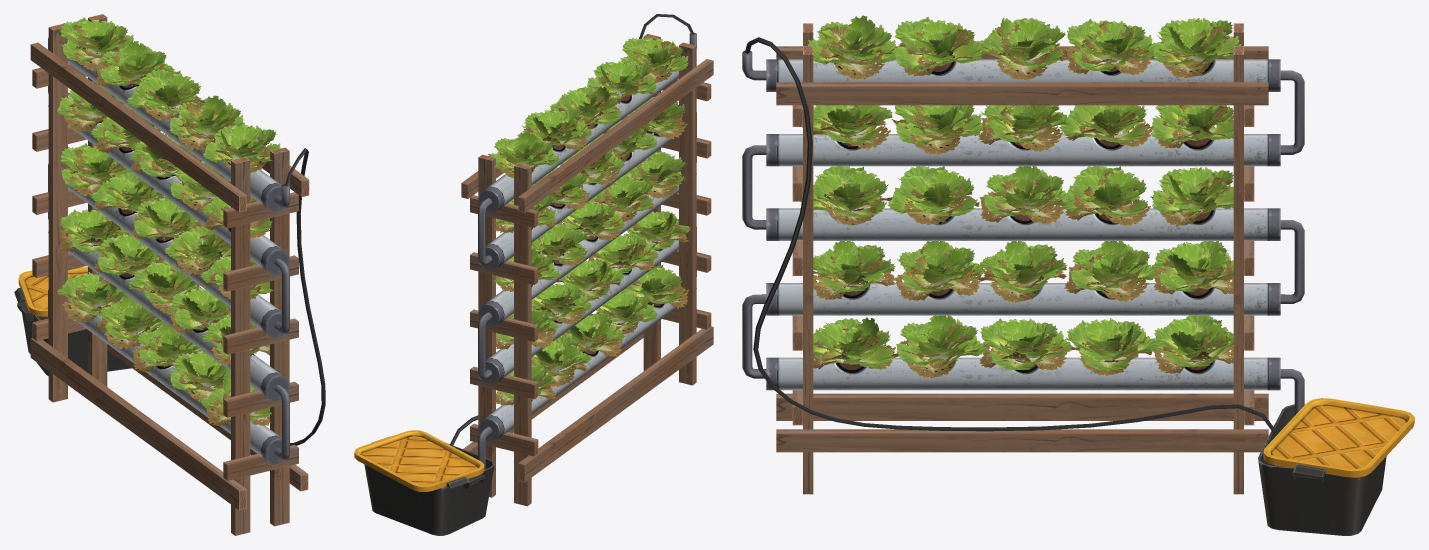
Rendered from hydroponics_V01_lettuce .fbx.
3 views of the same model, side by side, from view 1: azimuth 30°, elevation 25°; view 2: azimuth 150°, elevation 25°; view 3: azimuth 270°, elevation 25° (orthographic). The views are drawn at different scales.
Parts seen in each view (by area): view 1: hydroponics_V01_lettuce, hydroponics_V01_lettuce _S3, hydroponics_V01_lettuce _S4, hydroponics_V01_lettuce _S2, hydroponics_V01_lettuce _S1; view 2: hydroponics_V01_lettuce, hydroponics_V01_lettuce _S3, hydroponics_V01_lettuce _S4, hydroponics_V01_lettuce _S2, hydroponics_V01_lettuce _S1; view 3: hydroponics_V01_lettuce, hydroponics_V01_lettuce _S3, hydroponics_V01_lettuce _S4, hydroponics_V01_lettuce _S2, hydroponics_V01_lettuce _S1.
Part boxes in pixels (left/top/right/bottom): hydroponics_V01_lettuce: left=14, top=14, right=325, bottom=535; hydroponics_V01_lettuce _S3: left=57, top=17, right=280, bottom=417; hydroponics_V01_lettuce _S4: left=58, top=25, right=271, bottom=426; hydroponics_V01_lettuce _S2: left=66, top=34, right=264, bottom=400; hydroponics_V01_lettuce _S1: left=81, top=29, right=253, bottom=378; hydroponics_V01_lettuce: left=354, top=14, right=713, bottom=535; hydroponics_V01_lettuce _S3: left=489, top=35, right=690, bottom=399; hydroponics_V01_lettuce _S4: left=488, top=41, right=688, bottom=405; hydroponics_V01_lettuce _S2: left=497, top=48, right=681, bottom=396; hydroponics_V01_lettuce _S1: left=508, top=54, right=667, bottom=363; hydroponics_V01_lettuce: left=742, top=23, right=1414, bottom=535; hydroponics_V01_lettuce _S3: left=800, top=15, right=1244, bottom=370; hydroponics_V01_lettuce _S4: left=813, top=21, right=1233, bottom=378; hydroponics_V01_lettuce _S2: left=815, top=33, right=1231, bottom=361; hydroponics_V01_lettuce _S1: left=832, top=33, right=1212, bottom=352.
Size of the model in its own units: 0.8202 by 1.96 by 2.61.
